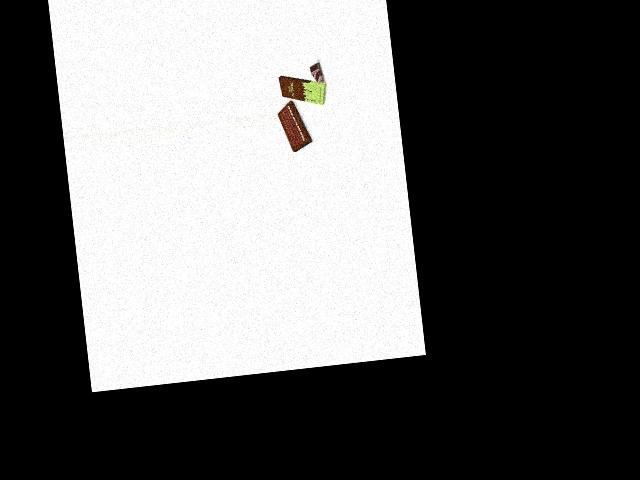chocolate: (278, 74, 329, 107)
